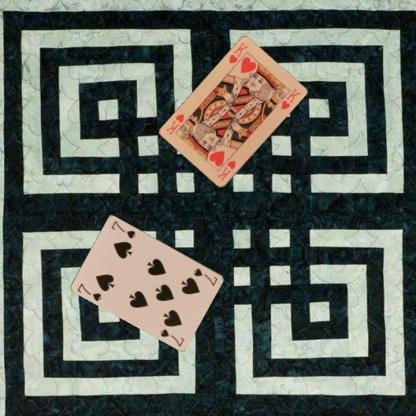7s: (191, 266, 219, 287), (75, 281, 103, 302)
Kh: (226, 40, 249, 65), (214, 158, 237, 182)
